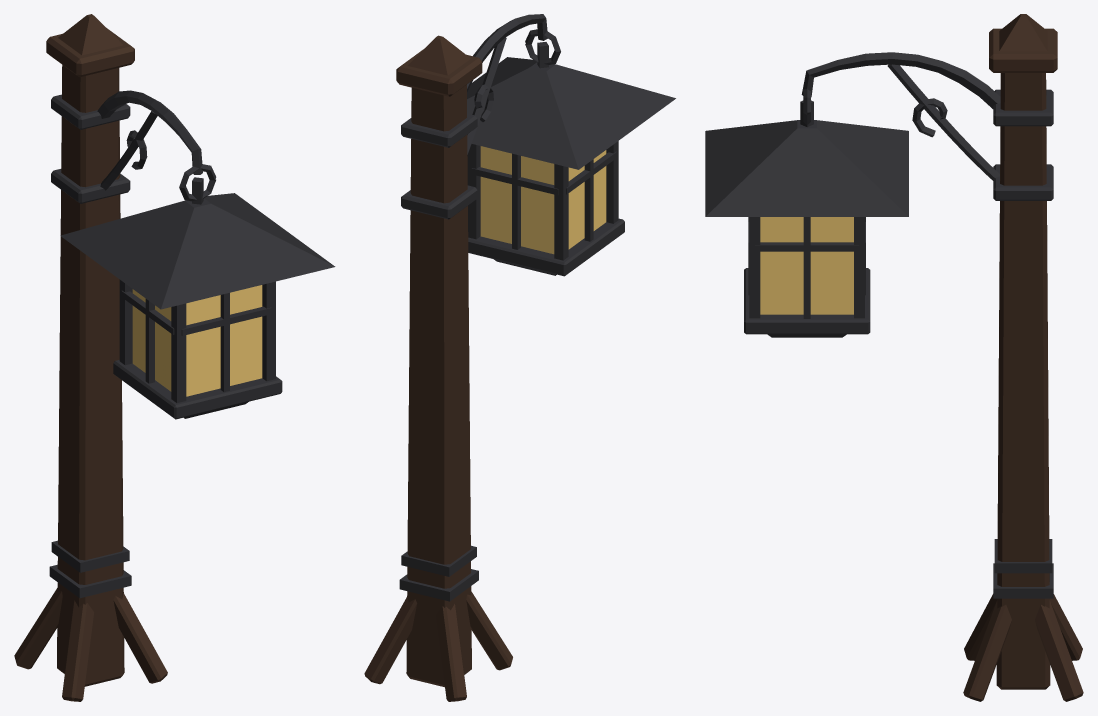
The model's file is LanternPost_A.glb.
3 views of the same model, side by side, from view 1: azimuth 30°, elevation 25°; view 2: azimuth 150°, elevation 25°; view 3: azimuth 270°, elevation 25° (orthographic). The views are drawn at different scales.
Visible parts, largest first — view 1: WoodDark__WoodDark, Iron__Iron, Glass__Glass; view 2: WoodDark__WoodDark, Iron__Iron, Glass__Glass; view 3: WoodDark__WoodDark, Iron__Iron, Glass__Glass.
Part boxes in pixels (x1,y1,x2,y2): WoodDark__WoodDark: [14, 14, 167, 701]; Iron__Iron: [49, 90, 335, 598]; Glass__Glass: [132, 285, 262, 396]; WoodDark__WoodDark: [364, 35, 512, 701]; Iron__Iron: [399, 14, 675, 601]; Glass__Glass: [480, 146, 606, 254]; WoodDark__WoodDark: [963, 14, 1083, 701]; Iron__Iron: [705, 52, 1053, 598]; Glass__Glass: [760, 217, 853, 314].
Bounding box in the file's own units: 0.0297 × 0.107 × 0.0551.
